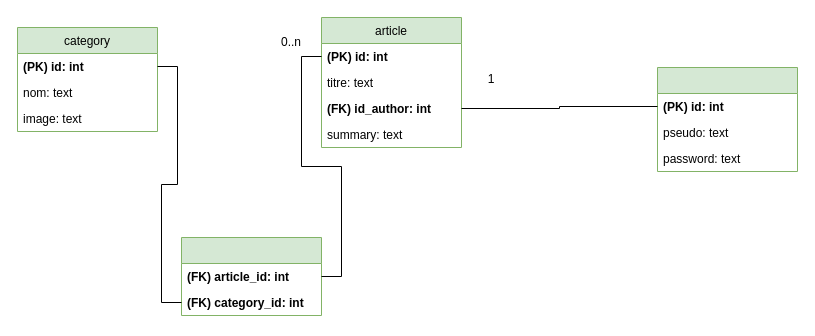
This 815x336 diagram has some shape labels left out. The box of each missing label's shape, as (x1, y1, x2, y2) in pixels:
article_category: (180, 236, 322, 316)
user: (656, 66, 798, 172)
